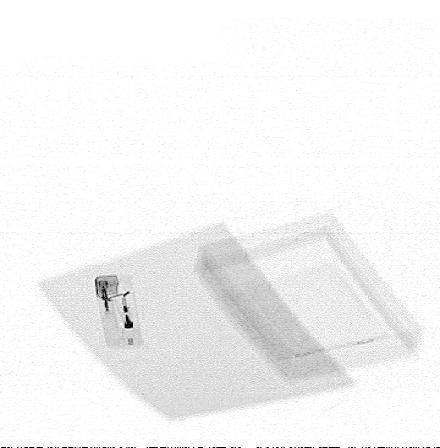Lighter: (95, 273, 143, 350)
